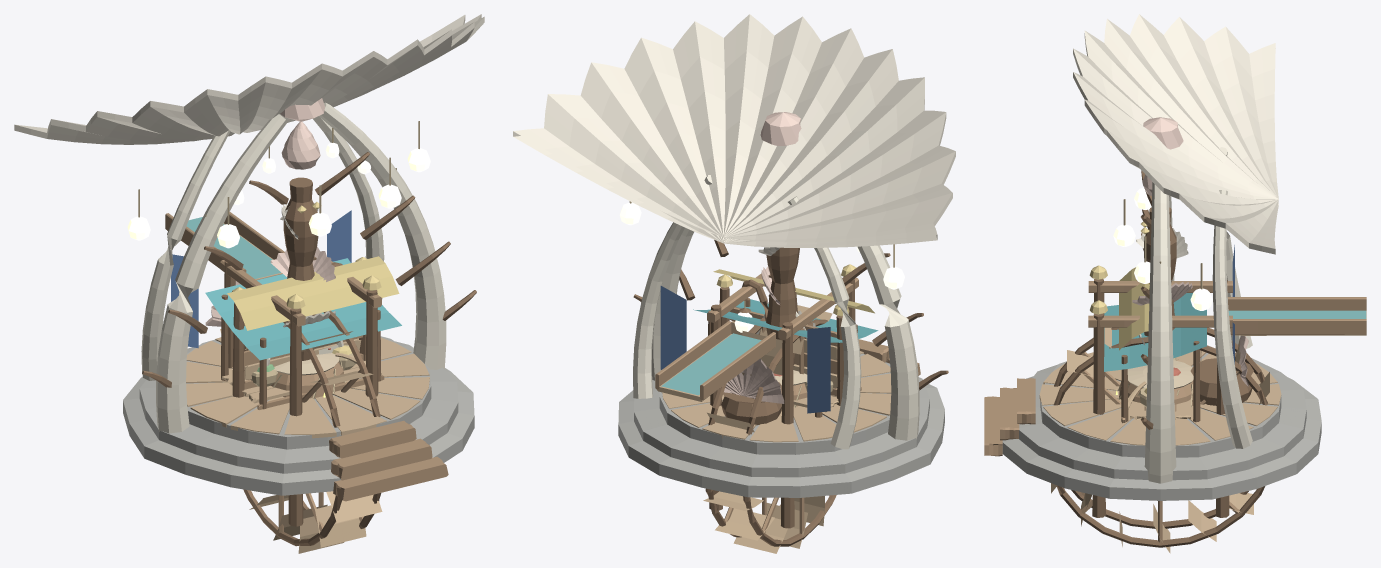
The model's file is frog_props.glb.
3 renders of one model, left to right at view 1: azimuth 30°, elevation 25°; view 2: azimuth 150°, elevation 25°; view 3: azimuth 270°, elevation 25°, orthographic. The views are drawn at different scales.
Parts seen in each view (by area): view 1: chief_dais, exit_gate, sluice_frame, request_board, market_stall, sluice_paddles, shell_totem, council_drum; view 2: chief_dais, exit_gate, sluice_frame, sluice_paddles, request_board, shell_totem, market_stall, lantern_post; view 3: chief_dais, sluice_frame, exit_gate, sluice_paddles, market_stall, shell_totem, council_drum, request_board.
Boxes of the visible parts, x1,y1,x2,y2 form: chief_dais: (14,14,484,501); exit_gate: (142,98,476,433); sluice_frame: (165,212,382,526); request_board: (227,256,399,397); market_stall: (205,258,401,409); sluice_paddles: (220,310,382,553); shell_totem: (270,121,335,397); council_drum: (271,352,365,398); chief_dais: (513,14,955,497); exit_gate: (633,112,948,440); sluice_frame: (655,264,858,528); sluice_paddles: (703,305,836,553); request_board: (713,269,874,405); shell_totem: (758,247,815,366); market_stall: (693,298,878,417); lantern_post: (734,279,768,332); chief_dais: (984,14,1321,500); sluice_frame: (1088,265,1366,517); exit_gate: (1140,117,1183,483); sluice_paddles: (1051,327,1269,553); market_stall: (1104,293,1206,423); shell_totem: (1115,174,1192,394); council_drum: (1118,360,1193,411); request_board: (1119,267,1149,350).
Size of the model in its own units: 9.49 by 10.37 by 7.44.
